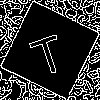T: (25, 25, 69, 79)
